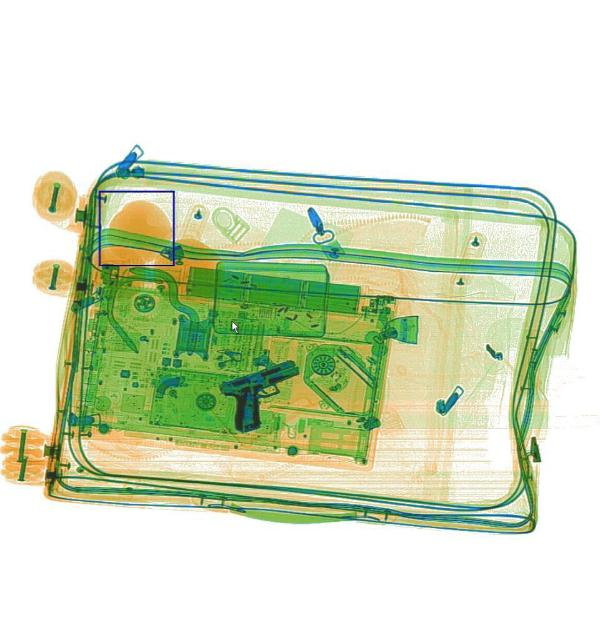Gun: (218, 357, 312, 433)
